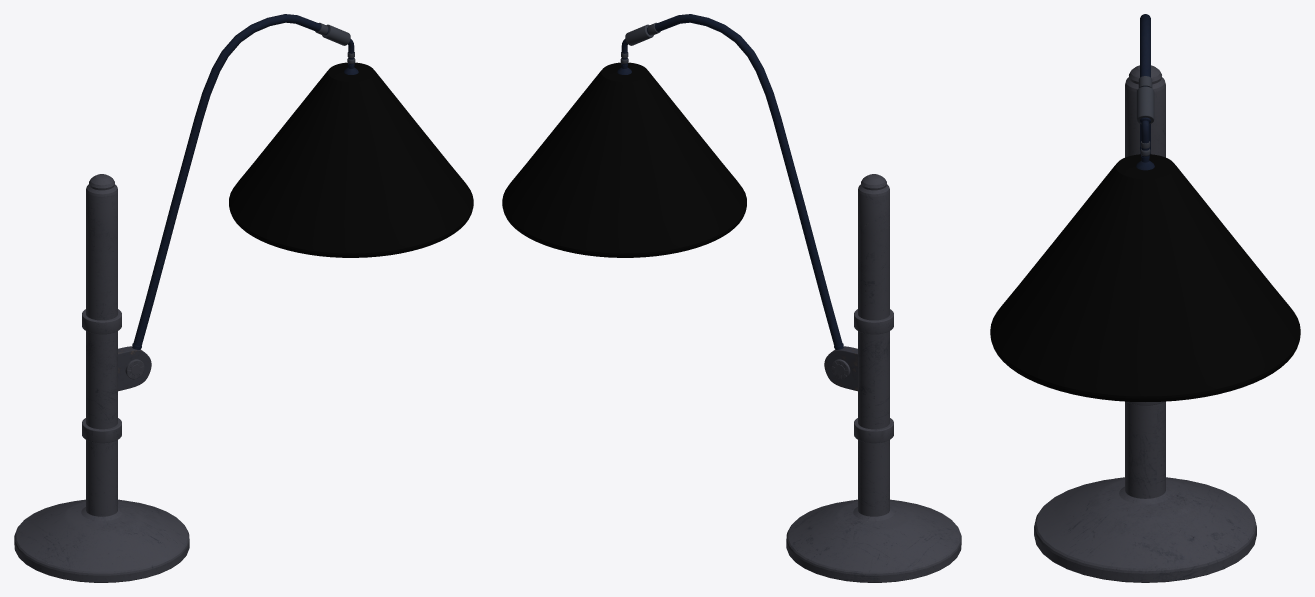
File: desk_lamp.glb
The picture shows the model from 3 angles, left to right: view 1: azimuth 30°, elevation 25°; view 2: azimuth 150°, elevation 25°; view 3: azimuth 270°, elevation 25°; orthographic projection. The views are drawn at different scales.
Visible parts, largest first — view 1: Cone, LampBase, Pipe, BasePart1; view 2: Cone, LampBase, Pipe, BasePart1; view 3: Cone, LampBase, Pipe.
Part boxes in pixels (x1,y1,x2,y2): Cone: [229, 62, 473, 257]; LampBase: [14, 174, 189, 582]; Pipe: [132, 14, 358, 349]; BasePart1: [118, 346, 151, 391]; Cone: [502, 62, 746, 257]; LampBase: [786, 174, 961, 582]; Pipe: [617, 14, 843, 349]; BasePart1: [824, 346, 857, 391]; Cone: [990, 154, 1300, 401]; LampBase: [1034, 65, 1256, 582]; Pipe: [1136, 14, 1154, 170].
Bounding box in the file's own units: 388 × 419 × 191.
Materials: 9 (8 with a texture image).
